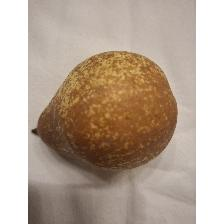Birne: (31, 50, 180, 173)
